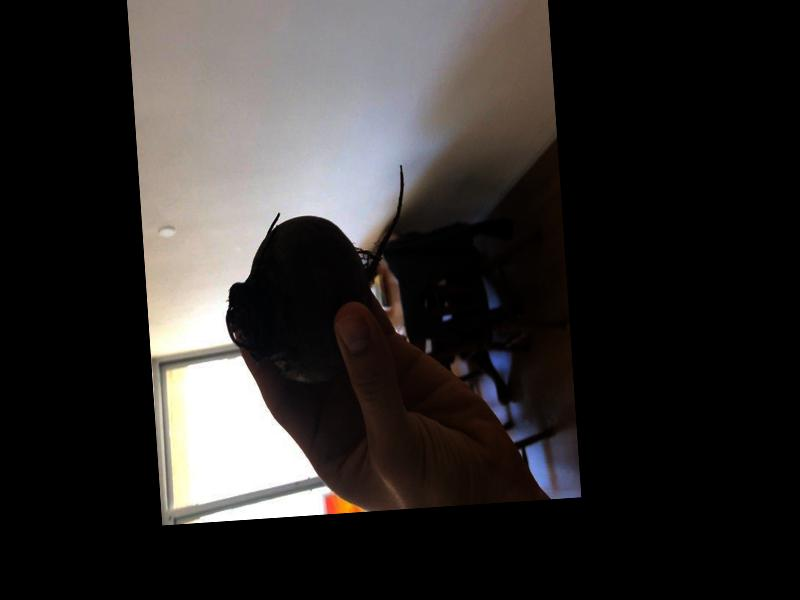Beet: (216, 165, 416, 388)
